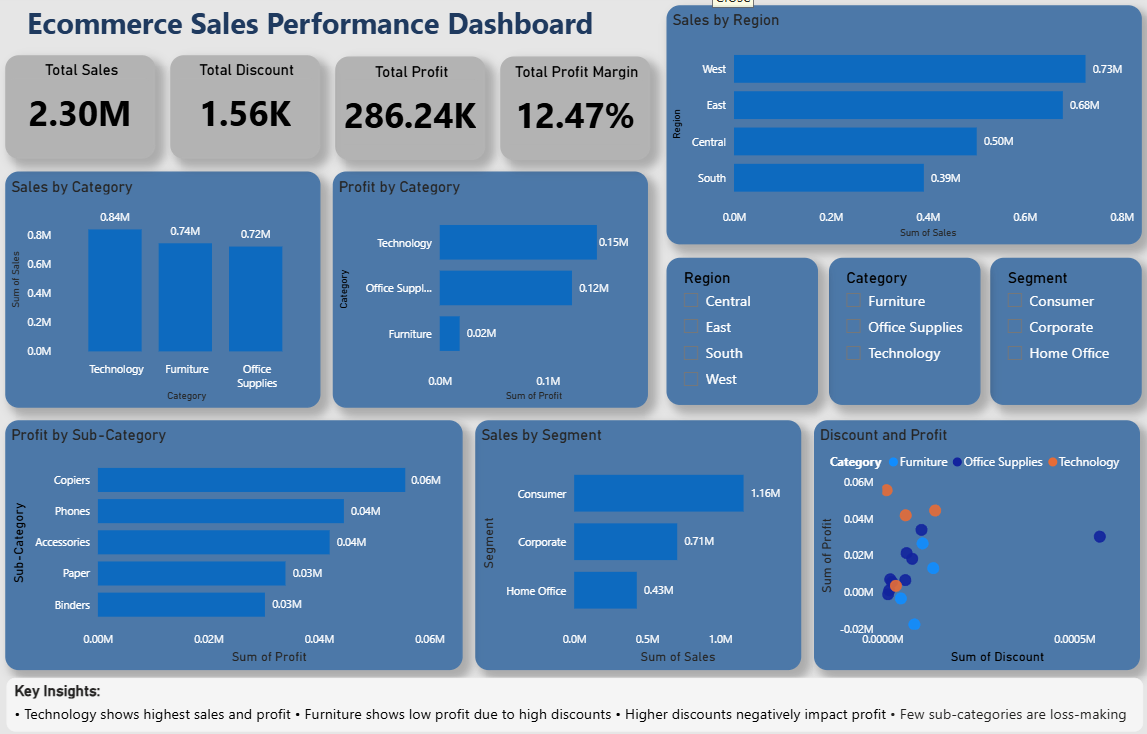

What the dashboard file says about the page in this screenshot:
{"tool":"powerbi","page":{"name":"Overview Dashboard","canvas":[1280,820],"ordinal":0},"visuals":[{"type":"textbox","box":[0,0,693.5,78],"z":0},{"type":"clusteredColumnChart","title":"Sales by Category","fields":{"Category":["superstore_final.Category"],"Y":["Sum(superstore_final.Sales)"]},"box":[7,192.2,351,263.2],"z":1000},{"type":"barChart","title":"Profit by Category","fields":{"Category":["superstore_final.Category"],"Y":["Sum(superstore_final.Profit)"]},"box":[371.8,192.2,351,263.2],"z":2000},{"type":"clusteredBarChart","title":"Sales by Region","fields":{"Y":["Sum(superstore_final.Sales)"],"Category":["superstore_final.Region"]},"box":[743.7,7,529.2,266],"z":3000},{"type":"barChart","title":"Sales by Segment","fields":{"Category":["superstore_final.Segment"],"Y":["Sum(superstore_final.Sales)"]},"box":[530.6,469.3,363.5,278.5],"z":4000},{"type":"clusteredBarChart","title":"Profit by Sub-Category","fields":{"Y":["Sum(superstore_final.Profit)"],"Category":["superstore_final.Sub-Category"]},"box":[7,469.3,509.7,278.5],"z":5000},{"type":"scatterChart","title":"Discount and Profit","fields":{"X":["Sum(superstore_final.Discount)"],"Y":["Sum(superstore_final.Profit)"],"Category":["superstore_final.Sub-Category"],"Series":["superstore_final.Category"]},"box":[908,469.3,363.5,278.5],"z":6000},{"type":"slicer","fields":{"Values":["superstore_final.Segment"]},"box":[1104.4,288.3,168.5,164.3],"z":7000},{"type":"slicer","fields":{"Values":["superstore_final.Category"]},"box":[924.7,288.3,168.5,164.3],"z":8000},{"type":"cardVisual","title":"Total Sales","fields":{"Data":["Sum(superstore_final.Sales)"]},"box":[7,62.7,167.1,115.6],"z":9000},{"type":"slicer","fields":{"Values":["superstore_final.Region"]},"box":[743.7,288.3,168.5,164.3],"z":10000},{"type":"cardVisual","title":"Total Profit","fields":{"Data":["Sum(superstore_final.Profit)"]},"box":[374.6,64.1,167.1,115.6],"z":11000},{"type":"cardVisual","title":"Total Discount","fields":{"Data":["Sum(superstore_final.Discount)"]},"box":[190.8,62.7,167.1,115.6],"z":12000},{"type":"textbox","title":"Key Insights:","box":[8.4,756.2,1266,59.9],"z":13000},{"type":"cardVisual","title":"Total Profit Margin","fields":{"Data":["superstore_final.Profit Margin %"]},"box":[558.5,64.1,167.1,115.6],"z":14000}]}

Visuals, with their boxes in screenshot pixels (x1, y1, x2, y2), scaled from the page's 1280x820 canvas onto the 1147x734 screenshot:
textbox: box=[0, 0, 621, 70]
"Sales by Category" clusteredColumnChart: box=[6, 172, 321, 408]
"Profit by Category" barChart: box=[333, 172, 648, 408]
"Sales by Region" clusteredBarChart: box=[666, 6, 1141, 244]
"Sales by Segment" barChart: box=[475, 420, 801, 669]
"Profit by Sub-Category" clusteredBarChart: box=[6, 420, 463, 669]
"Discount and Profit" scatterChart: box=[814, 420, 1139, 669]
slicer - superstore_final.Segment: box=[990, 258, 1141, 405]
slicer - superstore_final.Category: box=[829, 258, 980, 405]
"Total Sales" cardVisual: box=[6, 56, 156, 160]
slicer - superstore_final.Region: box=[666, 258, 817, 405]
"Total Profit" cardVisual: box=[336, 57, 485, 161]
"Total Discount" cardVisual: box=[171, 56, 321, 160]
"Key Insights:" textbox: box=[8, 677, 1142, 731]
"Total Profit Margin" cardVisual: box=[500, 57, 650, 161]
